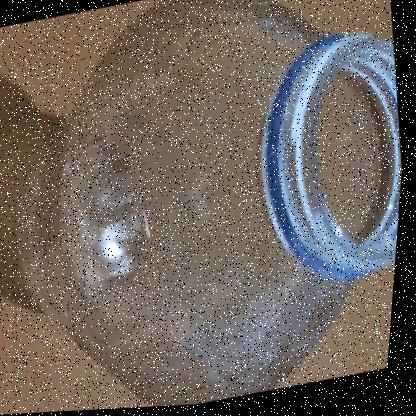open bottle: (49, 1, 416, 413)
